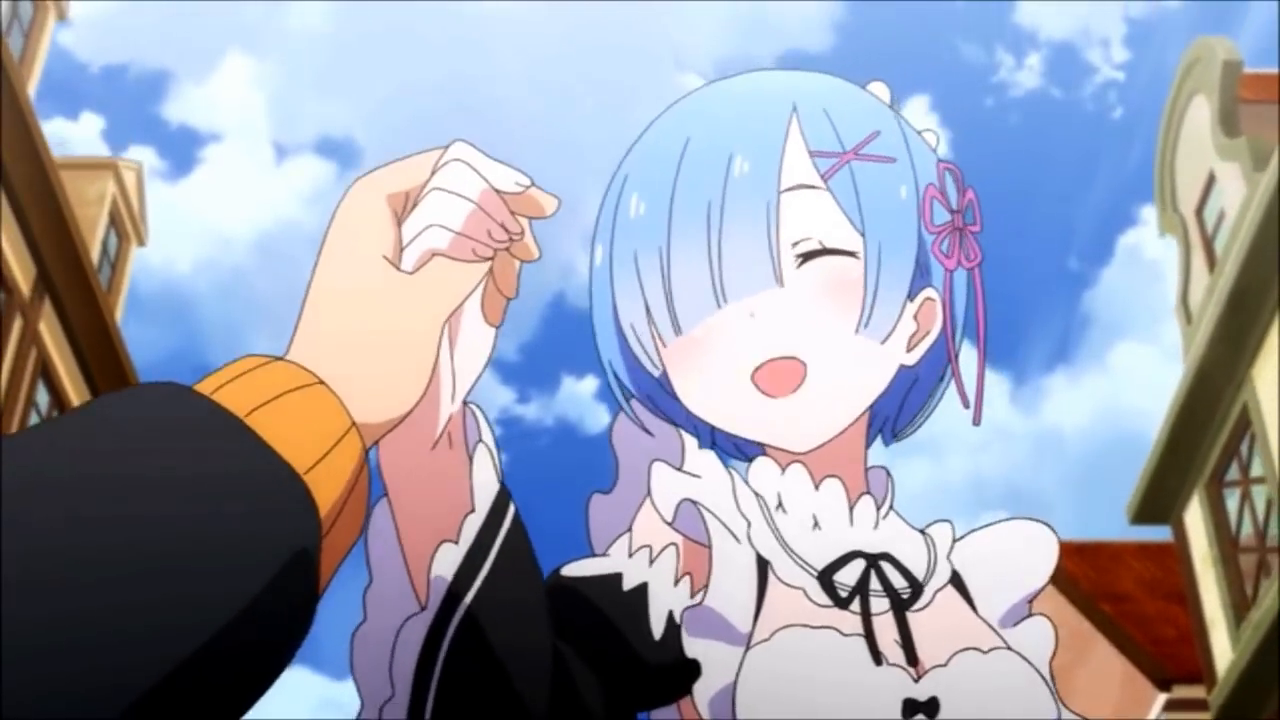REM: (587, 68, 973, 452)
